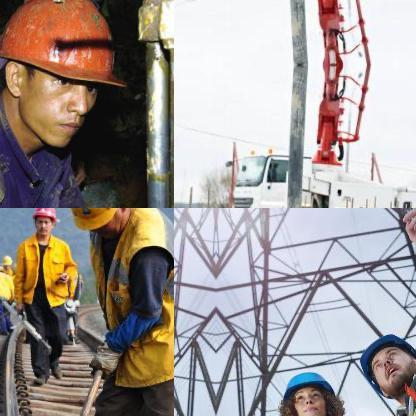Helmet: (0, 0, 131, 159), (359, 326, 415, 397), (273, 360, 342, 415), (59, 208, 133, 231), (28, 208, 57, 239), (0, 252, 11, 272)
